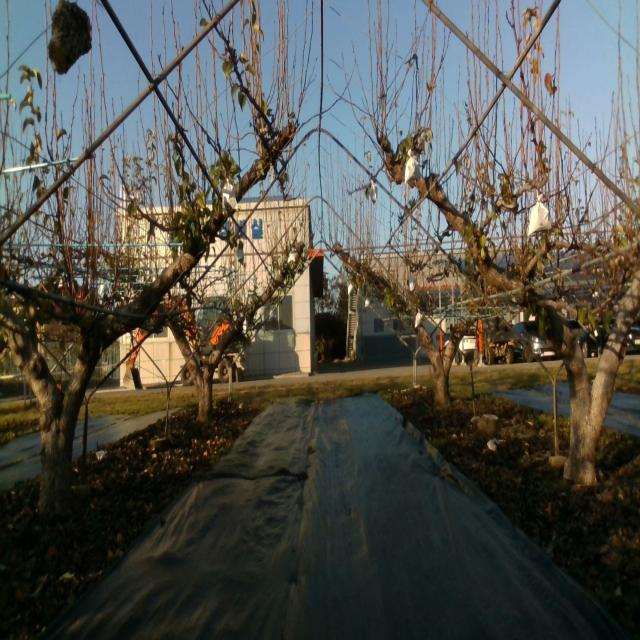pearbags: (528, 193, 552, 236), (405, 148, 422, 185), (222, 178, 238, 215), (196, 310, 207, 328)
